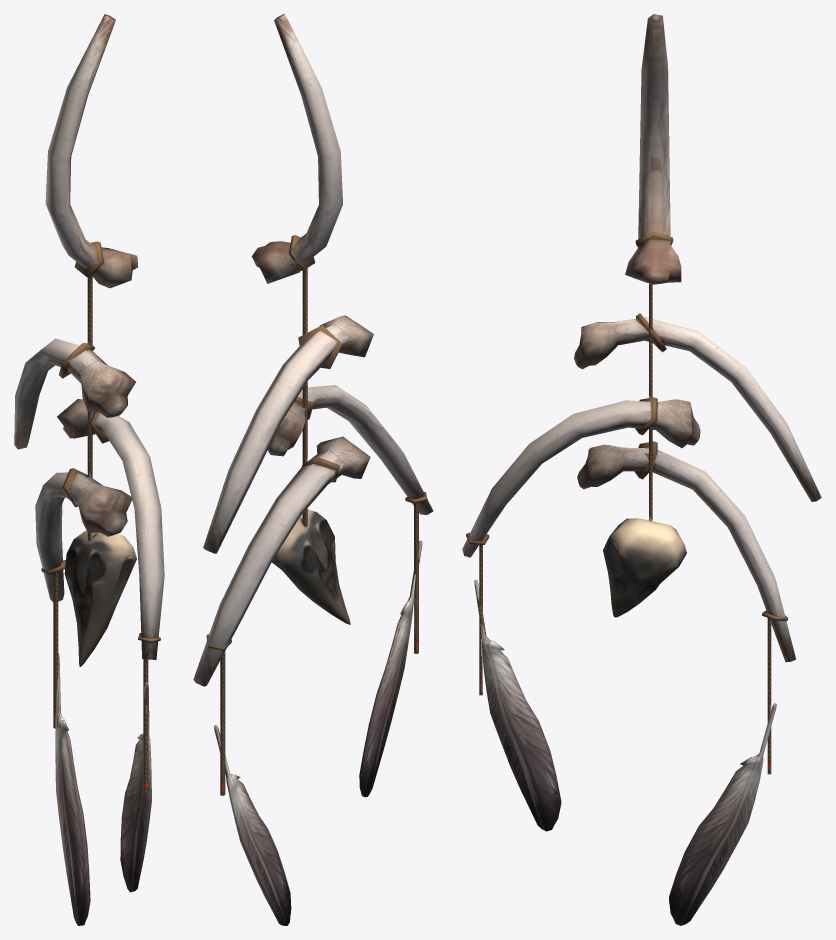
The model's file is lowpoly_asset_-_hanging_bones.glb.
The picture shows the model from 3 angles, left to right: view 1: azimuth 30°, elevation 25°; view 2: azimuth 150°, elevation 25°; view 3: azimuth 270°, elevation 25°; orthographic projection. The views are drawn at different scales.
Parts seen in each view (by area): view 1: Object_2; view 2: Object_2; view 3: Object_2.
Part boxes in pixels (<box>): Object_2: <box>14,14,164,925</box>; Object_2: <box>193,14,433,925</box>; Object_2: <box>462,14,821,925</box>.
Size of the model in its own units: 1.4 by 13.87 by 4.92.
Materials: 1 (1 with a texture image).
